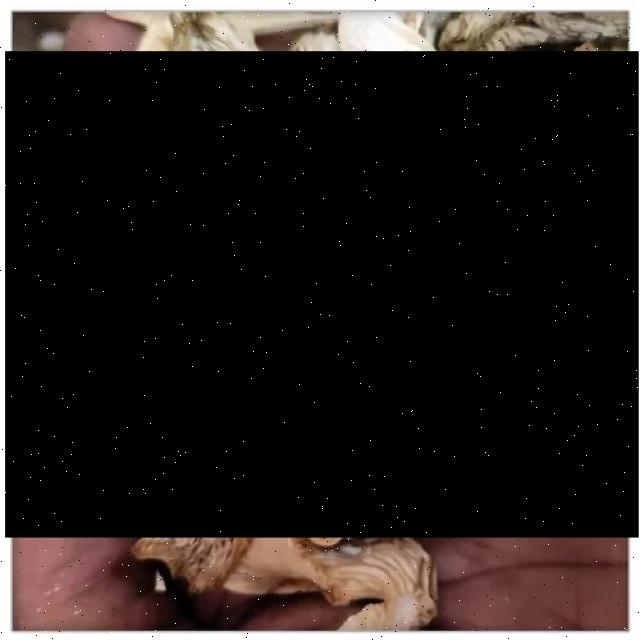Mushroom: (5, 51, 640, 538)
